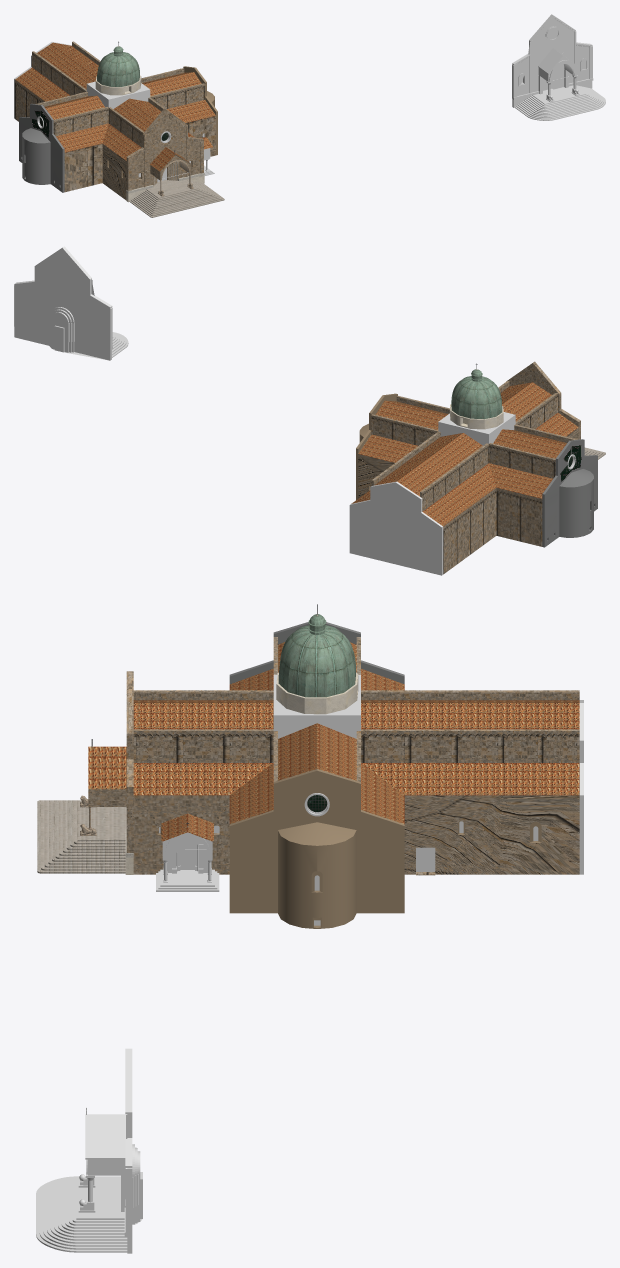
Rendered from Duomo_vero.fbx.
3 renders of one model, top to bottom at view 1: azimuth 30°, elevation 25°; view 2: azimuth 150°, elevation 25°; view 3: azimuth 270°, elevation 25°, orthographic. The views are drawn at different scales.
Parts seen in each view (by area): view 1: Struttura, Facciata, Facciata_sinistra, Struttura_ingresso, Scalinata_ingresso, Scalinata, Cupola, Decorazione_archetti, Lesene_Zoccolo, Arco_ingresso, Protiro_Archivolto_Tetto, Base (+2 smaller); view 2: Struttura, Facciata, Facciata_posteriore, Facciata_sinistra, Cupola, Struttura_ingresso, Facciata_destra, Base; view 3: Struttura, Facciata_destra, Scalinata_ingresso, Scalinata, Cupola, Arco_ingresso, Protiro_Archivolto_Tetto, Base, Facciata_sinistra, Facciata, Gradinata, Struttura_ingresso (+2 smaller).
Part boxes in pixels (x1,y1,x2,y2): Struttura: (15, 41, 215, 199); Facciata: (512, 14, 592, 107); Facciata_sinistra: (19, 103, 64, 192); Struttura_ingresso: (126, 108, 202, 190); Scalinata_ingresso: (129, 179, 224, 217); Scalinata: (514, 85, 605, 120); Cupola: (97, 52, 139, 86); Decorazione_archetti: (126, 109, 204, 202); Lesene_Zoccolo: (512, 31, 593, 99); Arco_ingresso: (150, 147, 191, 191); Protiro_Archivolto_Tetto: (538, 48, 578, 81); Base: (95, 75, 141, 95); Struttura: (351, 381, 578, 574); Facciata: (14, 247, 111, 360); Facciata_posteriore: (349, 481, 443, 575); Facciata_sinistra: (542, 439, 597, 547); Cupola: (451, 376, 502, 419); Struttura_ingresso: (506, 362, 580, 439); Facciata_destra: (356, 393, 397, 499); Base: (450, 404, 503, 429); Struttura: (133, 637, 579, 875); Facciata_destra: (229, 769, 404, 928); Scalinata_ingresso: (37, 800, 126, 873); Scalinata: (36, 1176, 127, 1252); Cupola: (278, 624, 355, 697); Arco_ingresso: (88, 746, 126, 828); Protiro_Archivolto_Tetto: (85, 1107, 125, 1174); Base: (276, 672, 358, 714); Facciata_sinistra: (229, 622, 404, 684); Facciata: (127, 1048, 142, 1253); Gradinata: (156, 869, 219, 891); Struttura_ingresso: (128, 671, 133, 852).
Size of the model in its own units: 13747 by 2944 by 6266.
Materials: 22 (17 with a texture image).
